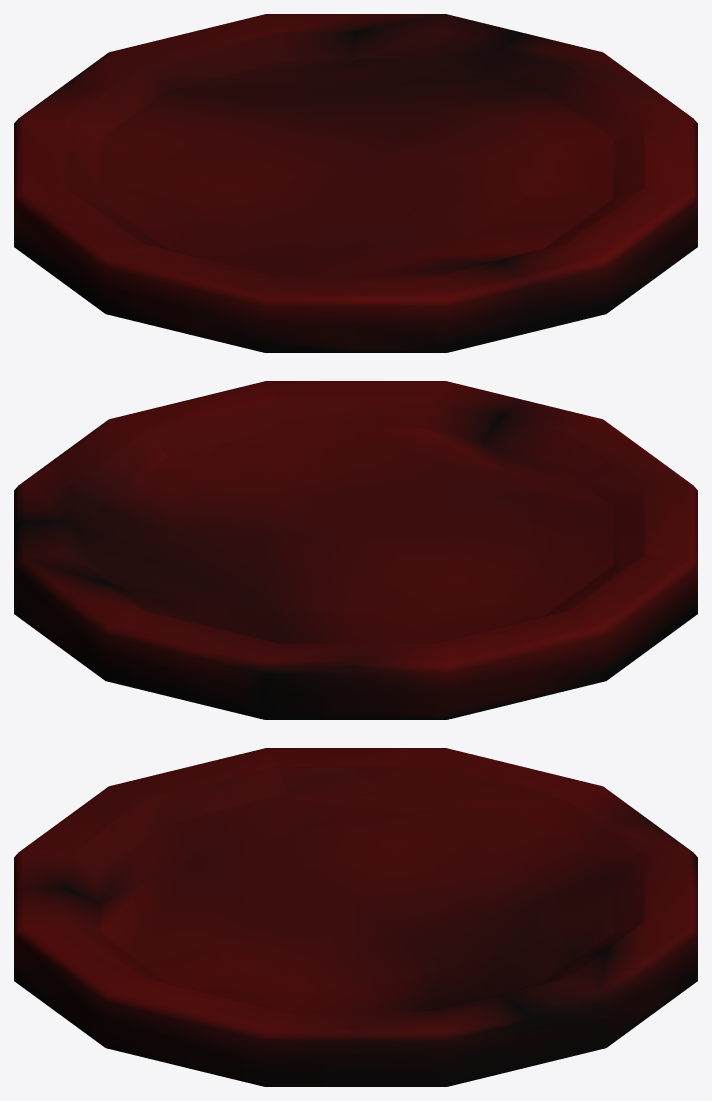
Rendered from castle_graveyard_landing_pad.glb.
The picture shows the model from 3 angles, top to bottom: view 1: azimuth 30°, elevation 25°; view 2: azimuth 150°, elevation 25°; view 3: azimuth 270°, elevation 25°; orthographic projection.
Visible parts, largest first — view 1: LandingPad; view 2: LandingPad; view 3: LandingPad.
Boxes of the visible parts, bbox=[...] form: LandingPad: bbox=[14, 14, 697, 352]; LandingPad: bbox=[14, 381, 697, 719]; LandingPad: bbox=[14, 748, 697, 1086].
Size of the model in its own units: 10.43 by 0.9 by 10.43.
